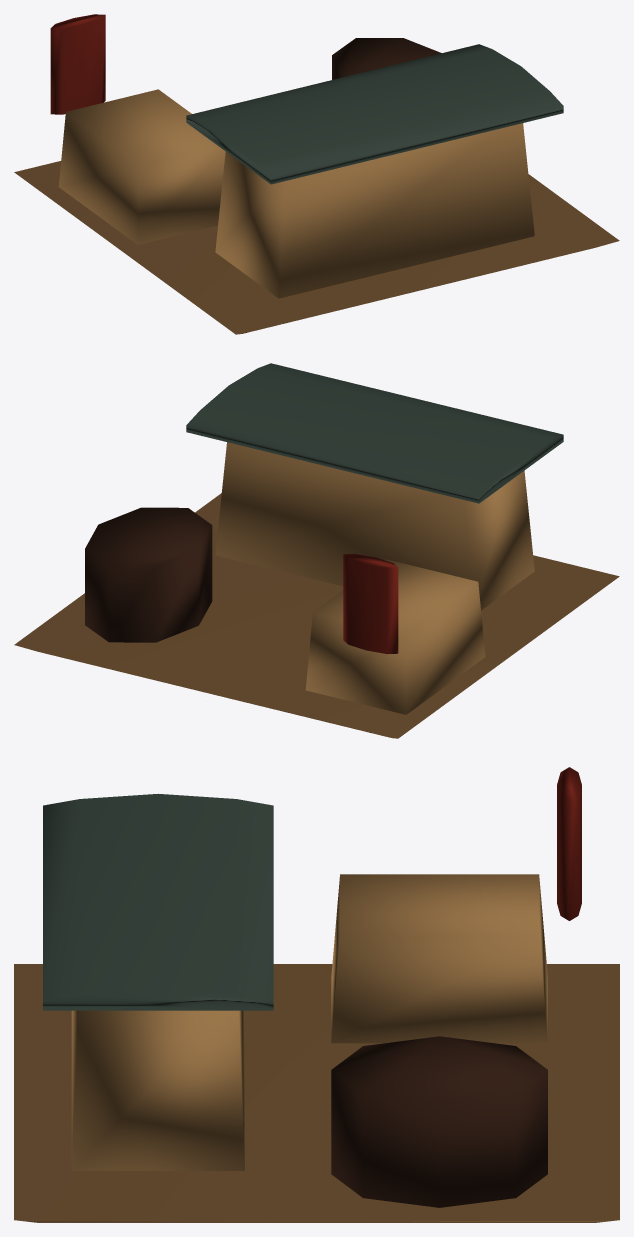
Rendered from R32_HAN_INN_POST_PRODUCTION_A.fbx.
3 renders of one model, top to bottom at view 1: azimuth 30°, elevation 25°; view 2: azimuth 150°, elevation 25°; view 3: azimuth 270°, elevation 25°, orthographic. The views are drawn at different scales.
Parts seen in each view (by area): view 1: main, main_roof, yard, kitchen, sign, stable; view 2: yard, main, main_roof, kitchen, stable, sign; view 3: yard, main_roof, kitchen, stable, main, sign.
Boxes of the visible parts, x1=… form: main: x1=215, y1=123, x2=534, y2=298; main_roof: x1=186, y1=44, x2=563, y2=184; yard: x1=14, y1=161, x2=619, y2=334; kitchen: x1=58, y1=89, x2=225, y2=244; sign: x1=50, y1=14, x2=105, y2=114; stable: x1=332, y1=38, x2=441, y2=79; yard: x1=14, y1=493, x2=619, y2=738; main: x1=215, y1=442, x2=534, y2=610; main_roof: x1=186, y1=363, x2=563, y2=503; kitchen: x1=305, y1=559, x2=485, y2=714; stable: x1=85, y1=507, x2=212, y2=642; sign: x1=343, y1=553, x2=398, y2=654; yard: x1=14, y1=964, x2=619, y2=1222; main_roof: x1=43, y1=793, x2=273, y2=1010; kitchen: x1=331, y1=874, x2=547, y2=1043; stable: x1=331, y1=1036, x2=547, y2=1207; main: x1=71, y1=1010, x2=244, y2=1170; sign: x1=557, y1=767, x2=581, y2=920.
Size of the model in its own units: 84 by 34 by 84.
